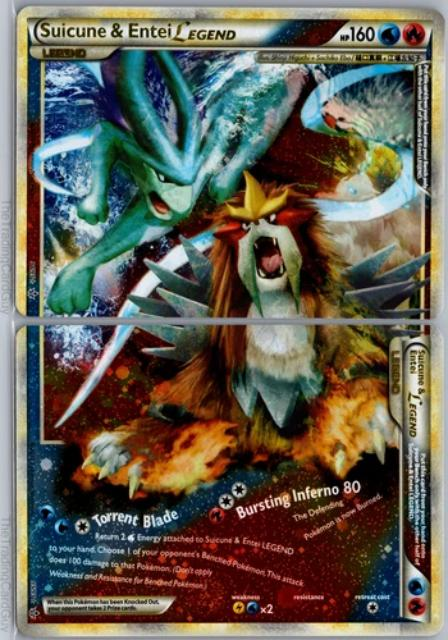Card: (13, 4, 447, 322), (13, 321, 447, 639)
Name: (37, 18, 242, 48), (405, 345, 431, 452)
